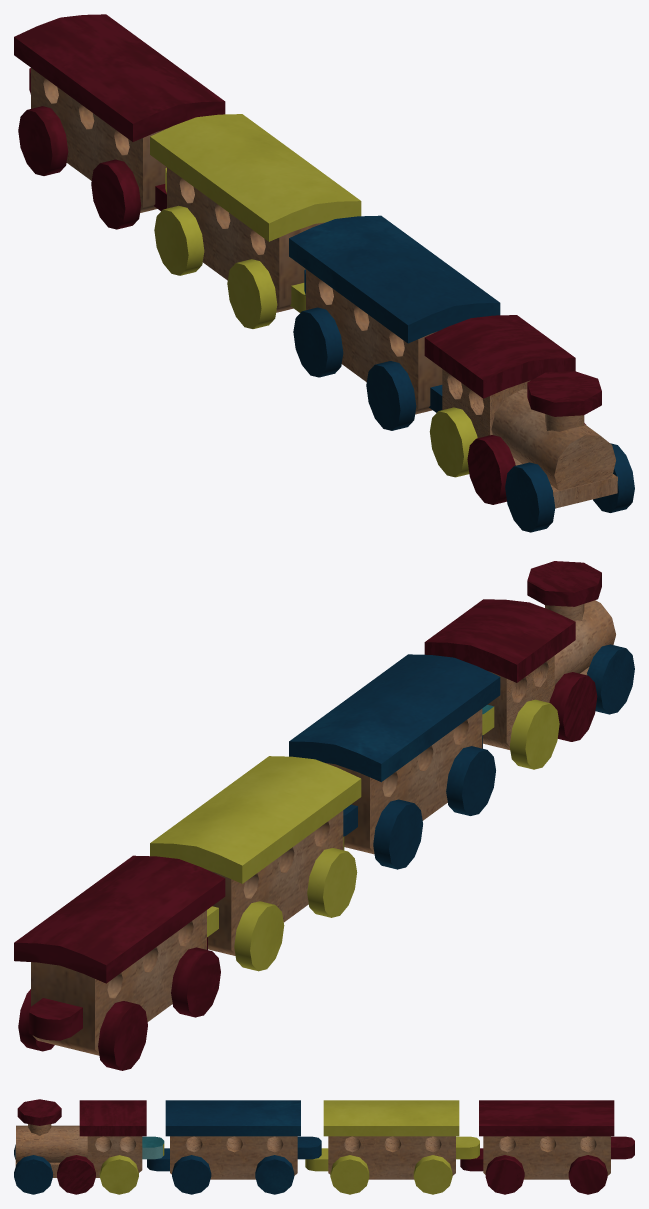
Rendered from Toy_Train.fbx.
3 views of the same model, one above another, from view 1: azimuth 30°, elevation 25°; view 2: azimuth 150°, elevation 25°; view 3: azimuth 270°, elevation 25° (orthographic). The views are drawn at different scales.
Parts seen in each view (by area): view 1: Toy_Train_Main, Toy_Train_vagon_ver2, Toy_Train_vagon_ver1, Toy_Train_vagon_ver3; view 2: Toy_Train_vagon_ver3, Toy_Train_vagon_ver1, Toy_Train_vagon_ver2, Toy_Train_Main; view 3: Toy_Train_vagon_ver2, Toy_Train_vagon_ver1, Toy_Train_vagon_ver3, Toy_Train_Main.
Part boxes in pixels (x1,y1,x2,y2): Toy_Train_Main: [424, 315, 634, 532]; Toy_Train_vagon_ver2: [150, 114, 361, 328]; Toy_Train_vagon_ver1: [289, 215, 500, 430]; Toy_Train_vagon_ver3: [14, 14, 225, 229]; Toy_Train_vagon_ver3: [14, 855, 225, 1070]; Toy_Train_vagon_ver1: [289, 654, 500, 869]; Toy_Train_vagon_ver2: [150, 756, 361, 971]; Toy_Train_Main: [424, 561, 634, 769]; Toy_Train_vagon_ver2: [305, 1100, 479, 1194]; Toy_Train_vagon_ver1: [147, 1100, 321, 1194]; Toy_Train_vagon_ver3: [460, 1100, 634, 1194]; Toy_Train_Main: [14, 1099, 164, 1194].
Bounding box in the file's own units: 94.3 × 121 × 931.
